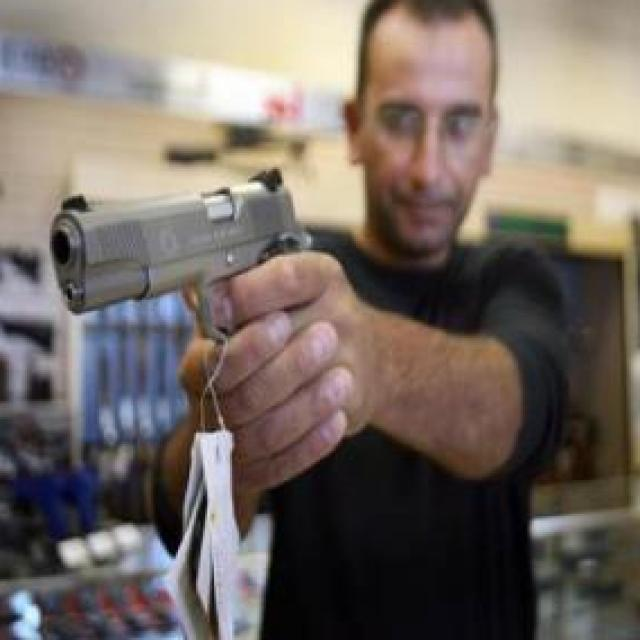pistol: (51, 165, 322, 347)
